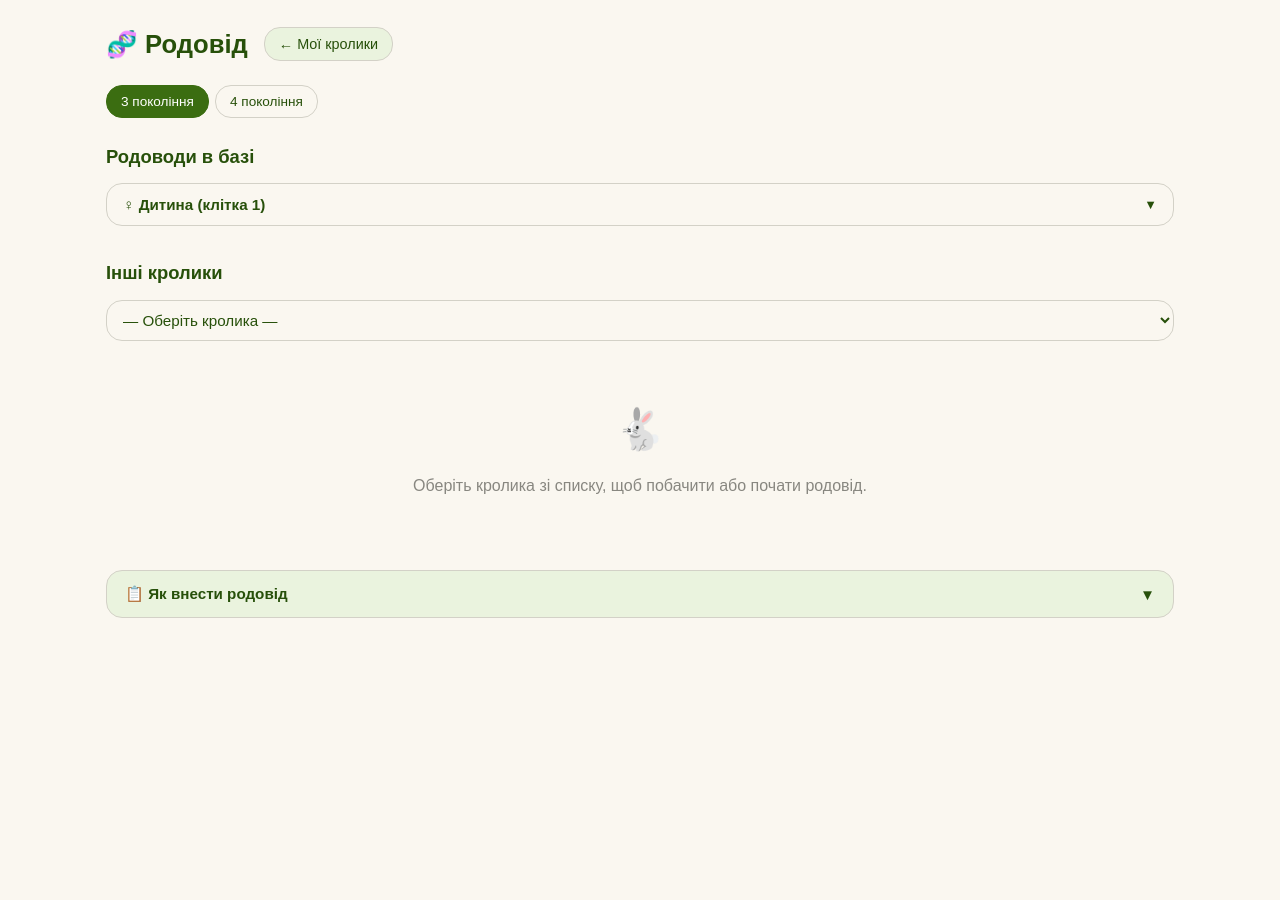
Pedigree: помилки Supabase › призначення предка: помилка показується, а список повертається до '+ Мати'
The width and height of the screenshot is (1280, 900).
Click the button "♀ Дитина (клітка 1) ▼" at (166, 205), box [107,184,1173,225]
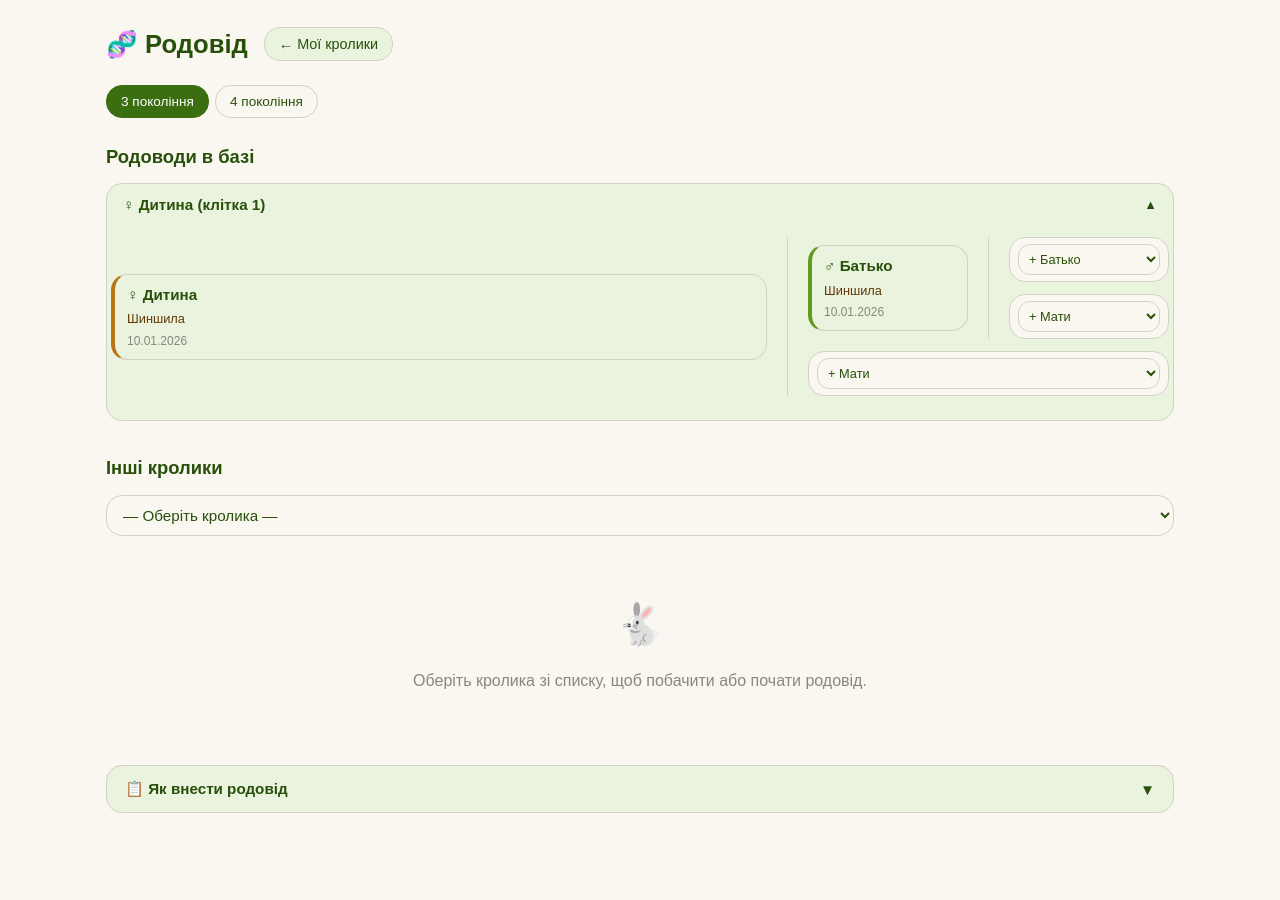
Select "Мати" in the 3rd dropdown at (988, 374), box [817,358,1160,389]
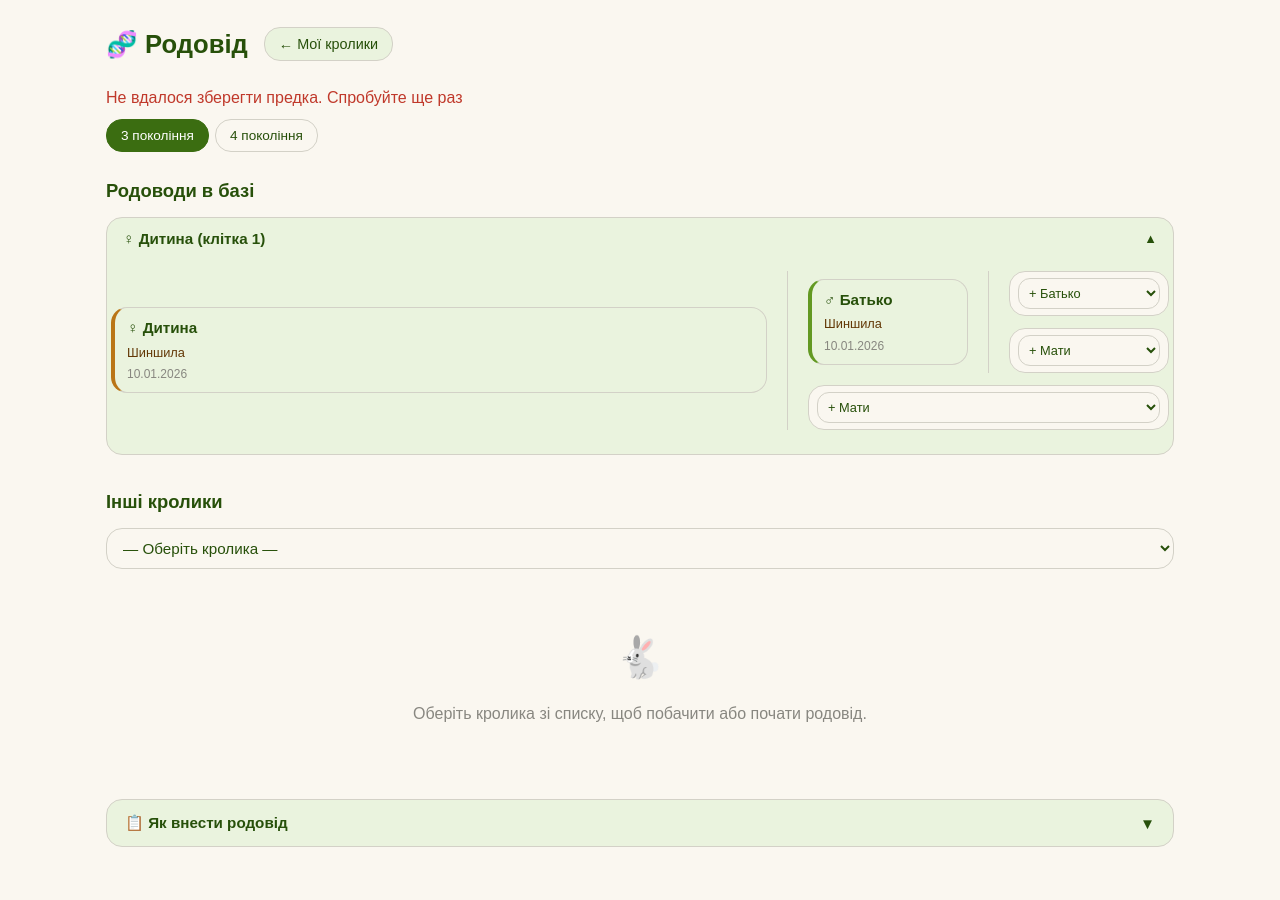
Now the text "Не вдалося зберегти предка. Спробуйте ще раз" is shown, box [106,89,462,106]
